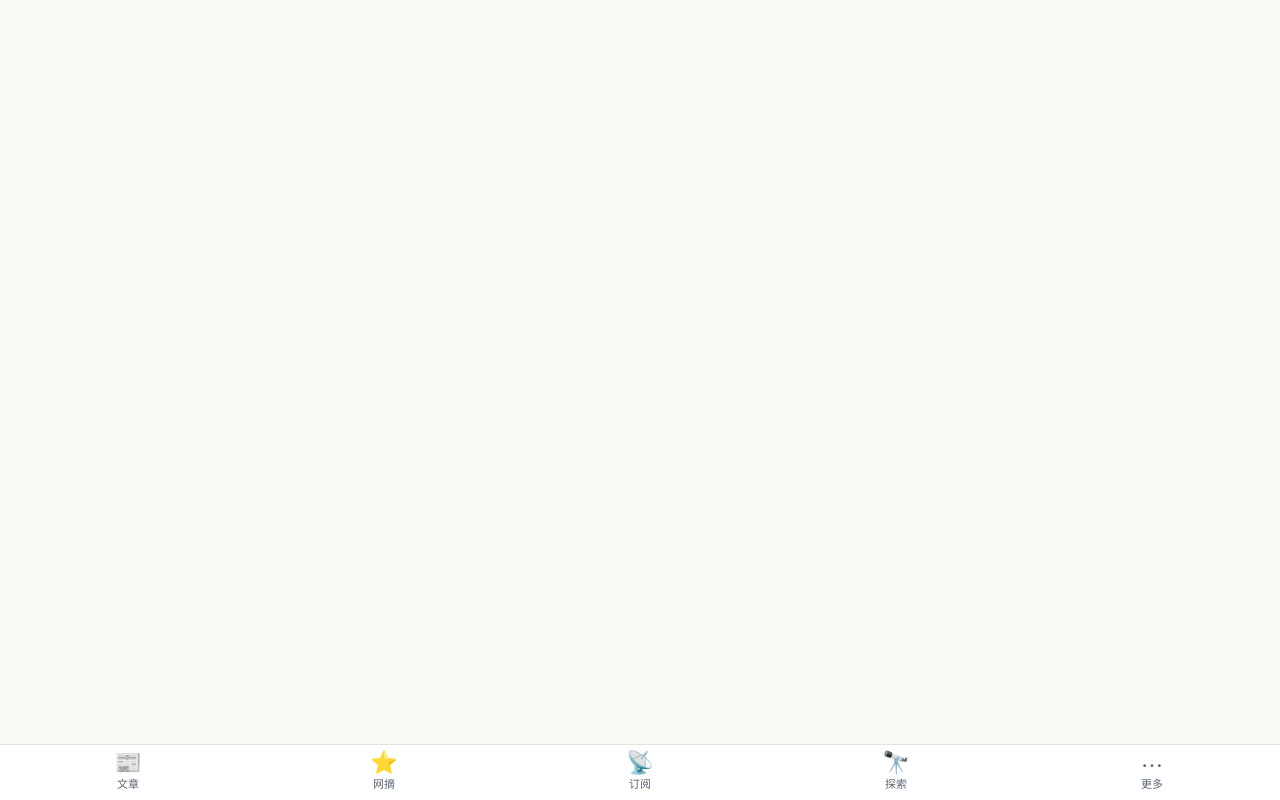
Test: passes QQ profile through the actual mobile More panel
This screenshot has width=1280, height=800.
Click the button "⋯ 更多".
click(1152, 772)  # box [1024, 745, 1279, 799]
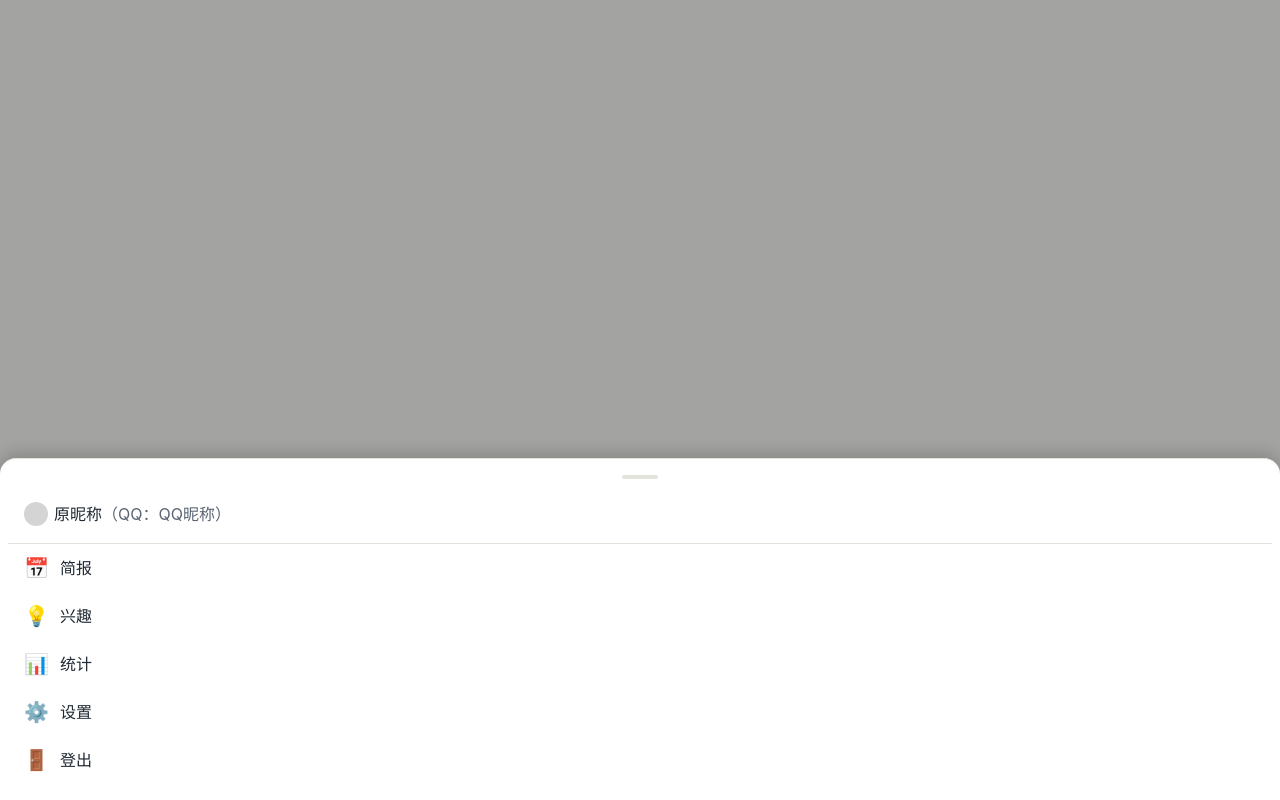
Expected: the text "原昵称" is shown, [54, 504, 102, 524]
Expected: the text "（QQ：QQ昵称）" is shown, [102, 504, 231, 524]
